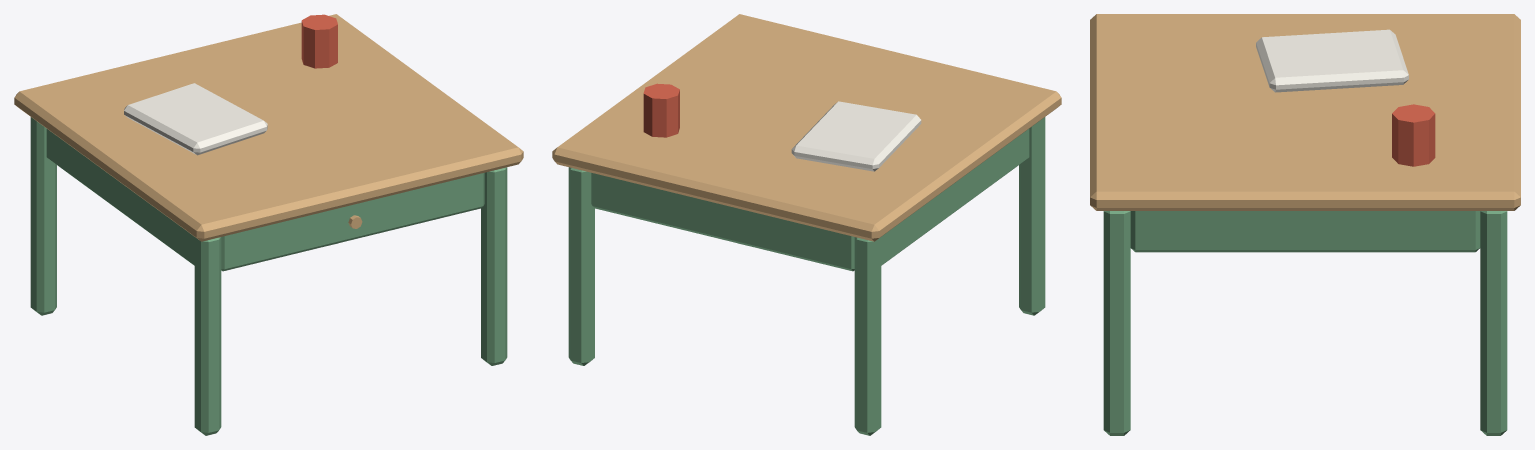
The model's file is small_desk.glb.
3 renders of one model, left to right at view 1: azimuth 30°, elevation 25°; view 2: azimuth 150°, elevation 25°; view 3: azimuth 270°, elevation 25°, orthographic. The views are drawn at different scales.
Visible parts, largest first — view 1: small_desk_Body; view 2: small_desk_Body; view 3: small_desk_Body.
Boxes of the visible parts, x1=… form: small_desk_Body: x1=14, y1=14, x2=523, y2=435; small_desk_Body: x1=552, y1=14, x2=1061, y2=435; small_desk_Body: x1=1090, y1=14, x2=1520, y2=435.
Bounding box in the file's own units: 0.8 × 0.6 × 0.796.
